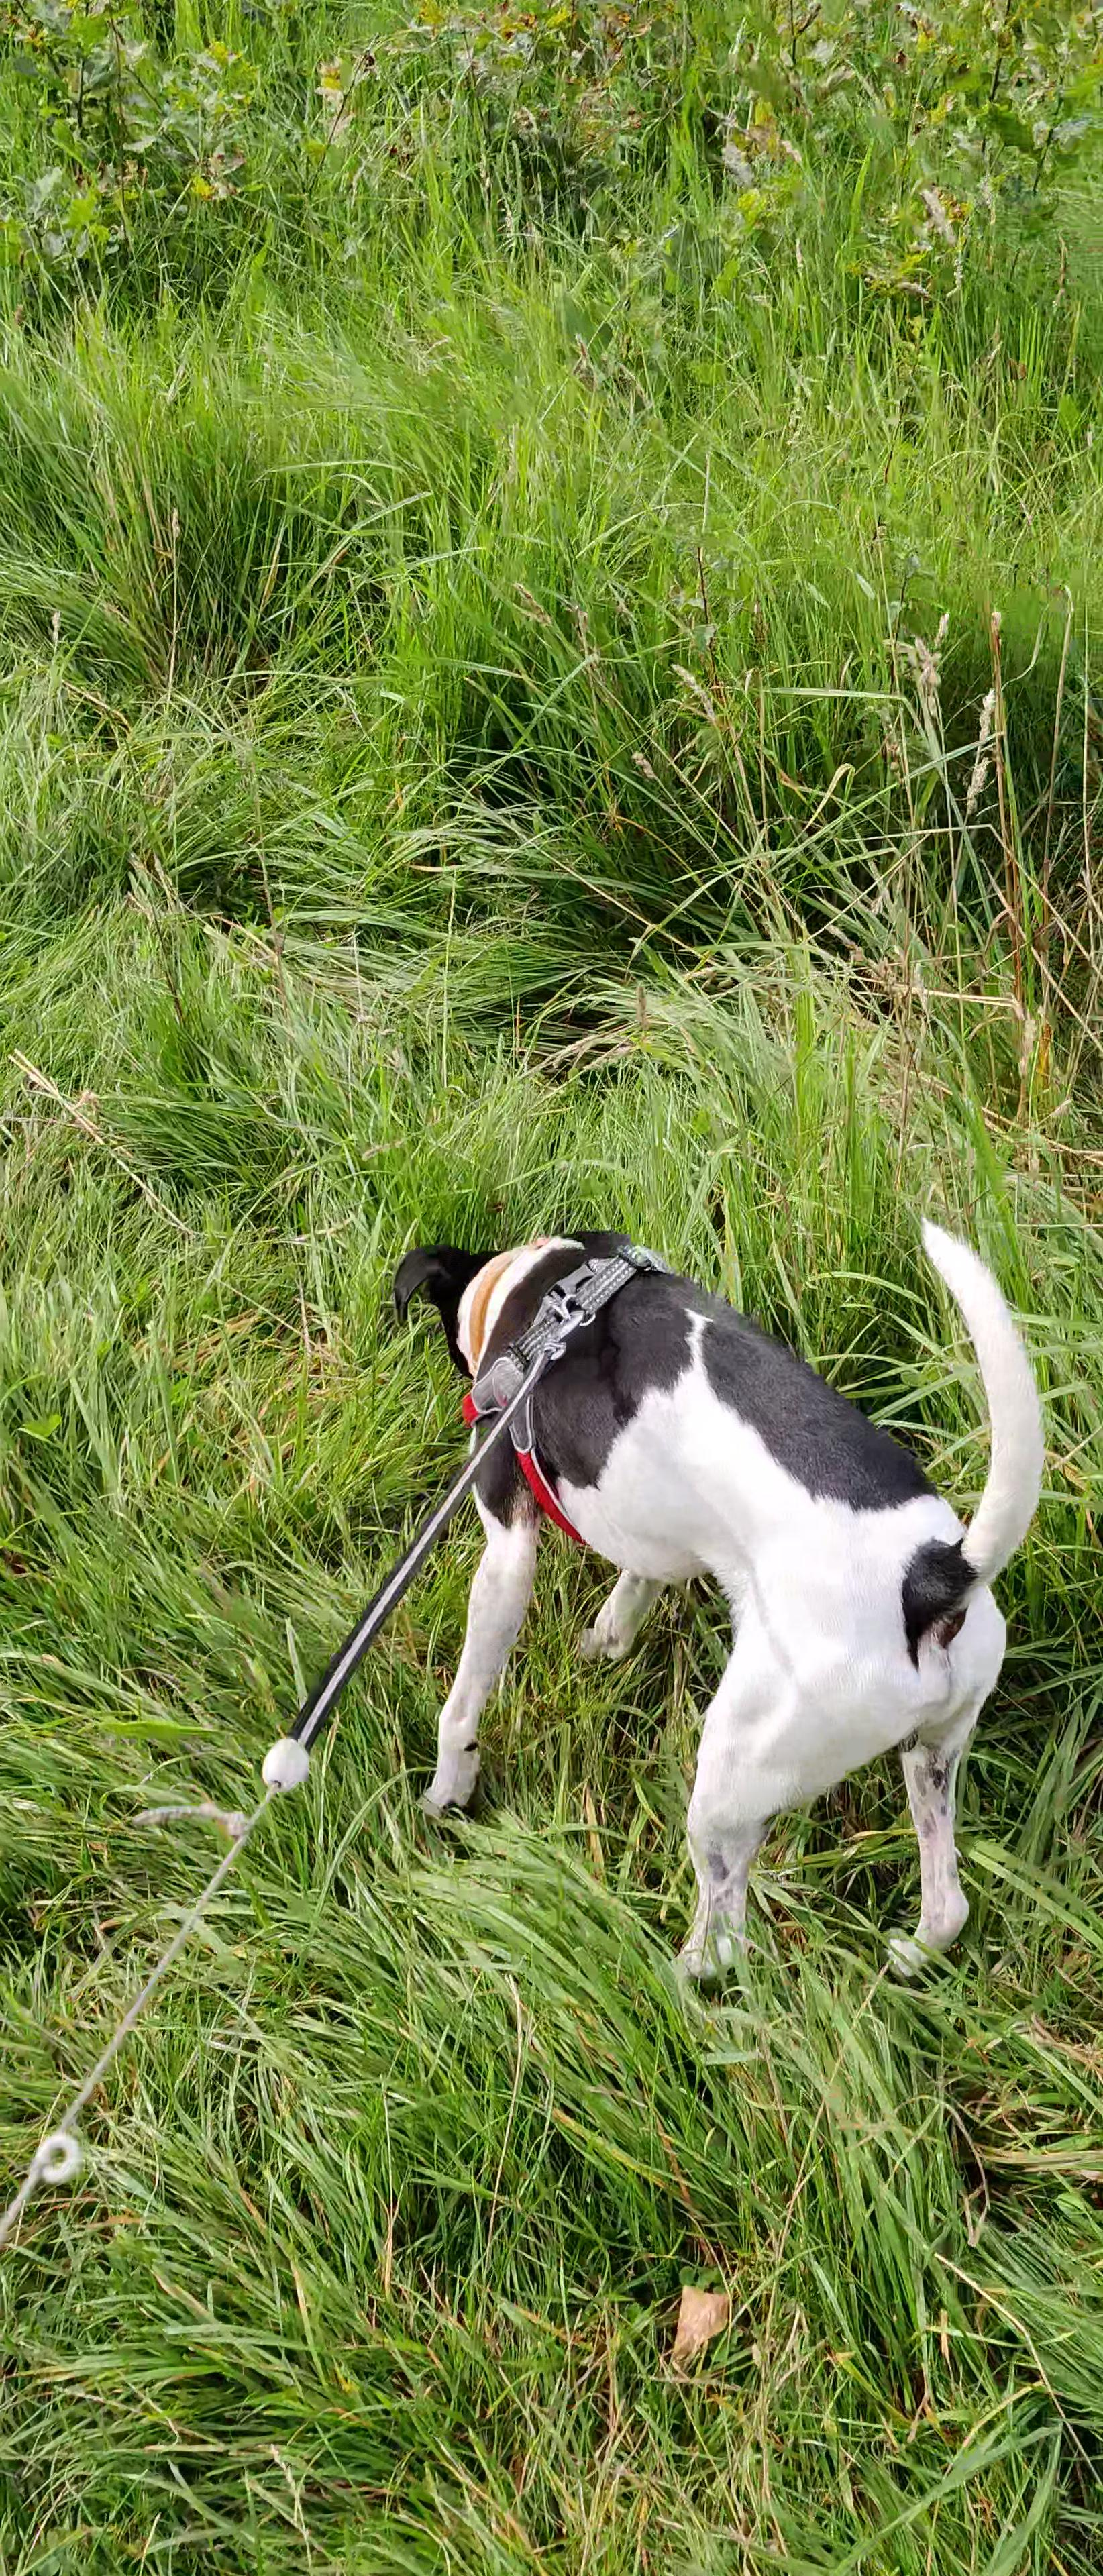Dog: (391, 1204, 1057, 1983)
